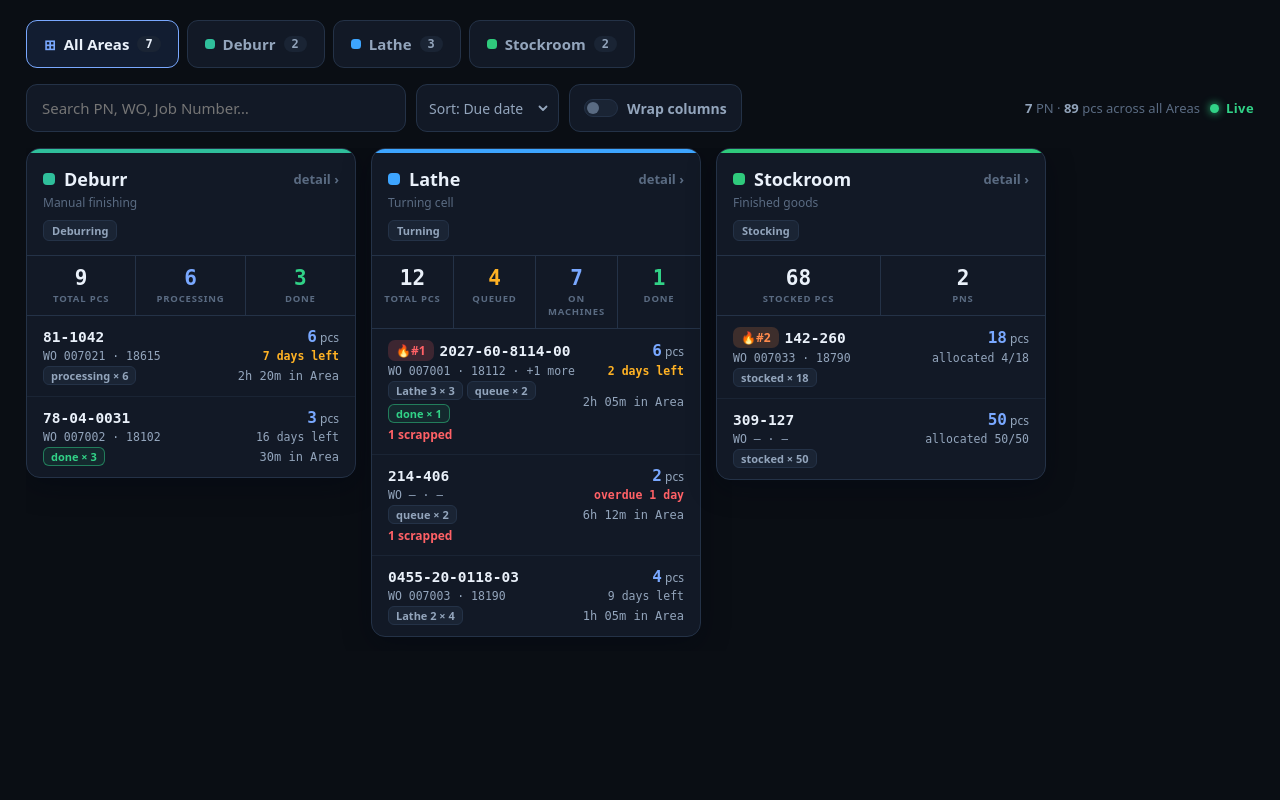
Test case: the Area detail leads with a summary card: stats + grouped PN list
Step 1. Click the button "Lathe 3" → (397, 44), box [333,20,461,68]
(page scrolled)
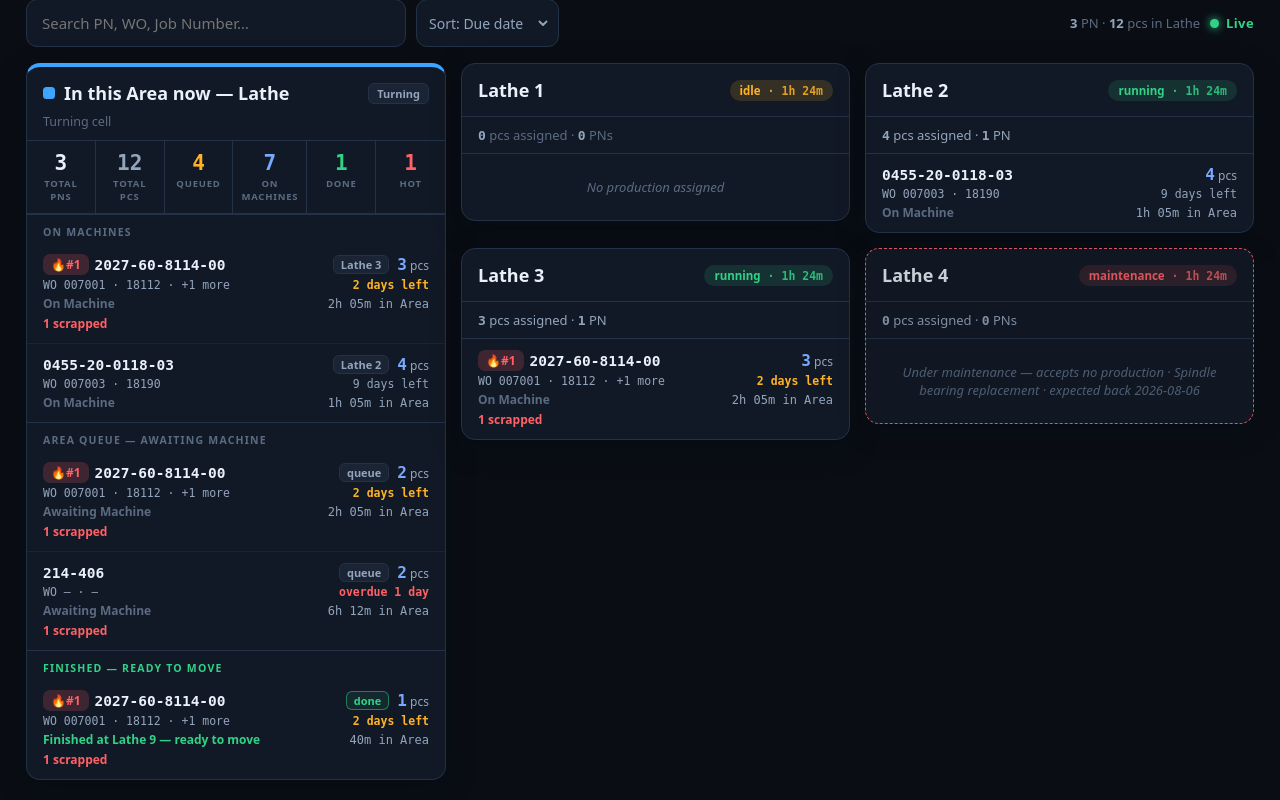
Expected: the element with class "abd-card" shows "Turning", [377,86,420,100]
